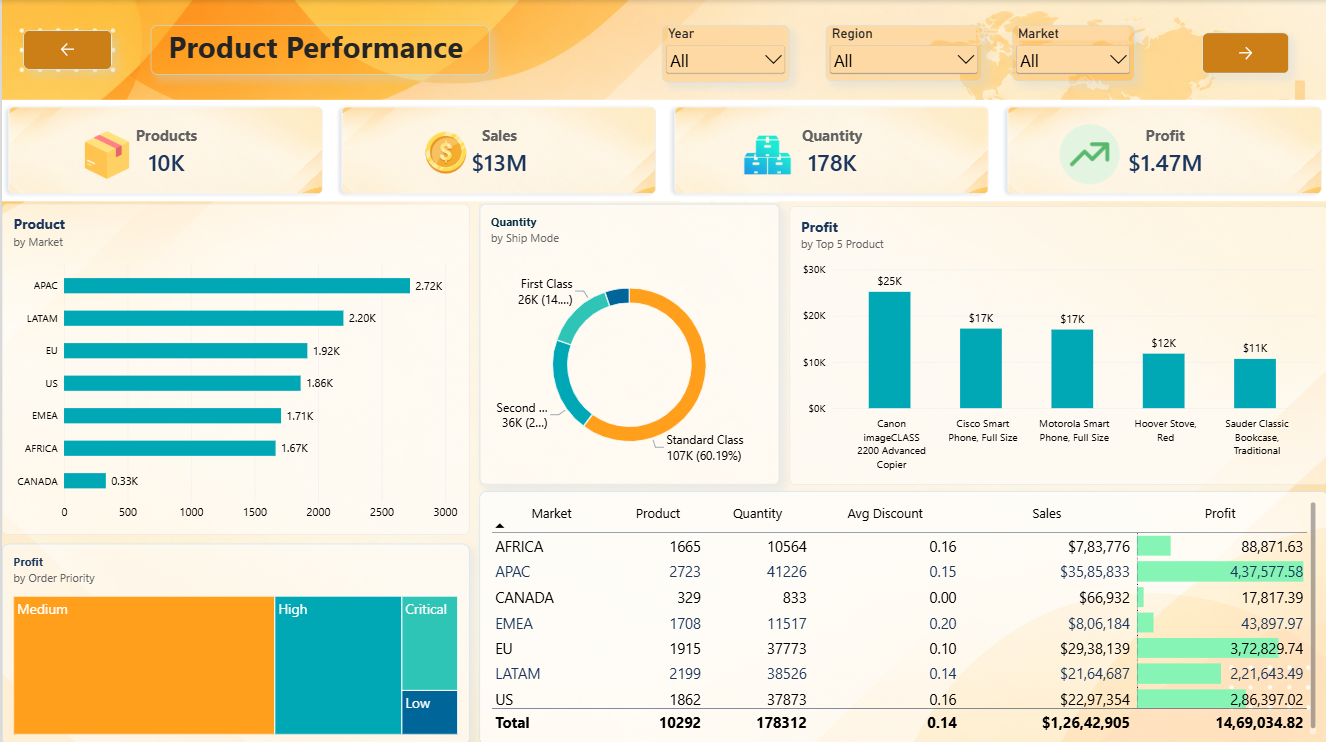

What the dashboard file says about the page in this screenshot:
{"tool":"powerbi","page":{"name":"Product Performance","canvas":[1920,1080],"ordinal":4},"visuals":[{"type":"cardVisual","fields":{"Data":["SuperStoreOrders.Total Sales","SuperStoreOrders.Total Quantity","SuperStoreOrders.Total Profit","SuperStoreOrders.Total Product"]},"box":[0,144.8,1920.1,137.5],"z":0},{"type":"clusteredBarChart","fields":{"Category":["SuperStoreOrders.market"],"Y":["SuperStoreOrders.Total Product"]},"box":[0,295,676.8,479.6],"z":1000},{"type":"treemap","fields":{"Group":["SuperStoreOrders.order_priority"],"Values":["SuperStoreOrders.Total Profit"]},"box":[0,787.2,676.8,293.2],"z":2000},{"type":"donutChart","fields":{"Category":["SuperStoreOrders.ship_mode"],"Y":["SuperStoreOrders.Total Quantity"]},"box":[691.3,295,434.3,407.2],"z":3000},{"type":"clusteredColumnChart","fields":{"Category":["SuperStoreOrders.product_name"],"Y":["SuperStoreOrders.Total Profit"]},"box":[1140.1,298.6,780,403.6],"z":4000},{"type":"tableEx","fields":{"Values":["SuperStoreOrders.market","SuperStoreOrders.Total Product","Sum(SuperStoreOrders.quantity)","Avg(SuperStoreOrders.discount)","SuperStoreOrders.Total Sales","Sum(SuperStoreOrders.profit)"]},"box":[691.3,711.2,1228.8,369.2],"z":5000},{"type":"textbox","box":[215.3,36.2,490.4,72.4],"z":6000},{"type":"cardVisual","fields":{"Data":["SuperStoreOrders.Total Product","SuperStoreOrders.Total Sales","SuperStoreOrders.Total Quantity","SuperStoreOrders.Total Profit"]},"box":[0,144.8,1920.1,146.6],"z":7000},{"type":"slicer","fields":{"Values":["SuperStoreOrders.year"]},"box":[955.5,36.2,184.6,83.2],"z":8000},{"type":"slicer","fields":{"Values":["SuperStoreOrders.region"]},"box":[1192.6,36.2,226.2,81.4],"z":9000},{"type":"slicer","fields":{"Values":["SuperStoreOrders.market"]},"box":[1462.2,36.2,177.3,81.4],"z":10000},{"type":"image","box":[1531,177.3,86.9,92.3],"z":11000},{"type":"image","box":[611.7,186.4,61.5,68.8],"z":12000},{"type":"image","box":[1065.9,190,85.1,68.8],"z":13000},{"type":"image","box":[114,190,76,68.8],"z":14000},{"type":"actionButton","box":[1737.3,47.1,126.7,59.7],"z":15000},{"type":"actionButton","box":[30.8,43.4,128.5,57.9],"z":16000}]}

Visuals, with their boxes in screenshot pixels (x1, y1, x2, y2), scaled from the page's 1920x1080 canvas onto the 1326x742 screenshot:
cardVisual - SuperStoreOrders.Total Sales x SuperStoreOrders.Total Quantity: crop(0, 99, 1325, 194)
clusteredBarChart - SuperStoreOrders.market x SuperStoreOrders.Total Product: crop(0, 203, 467, 532)
treemap - SuperStoreOrders.order_priority x SuperStoreOrders.Total Profit: crop(0, 541, 467, 741)
donutChart - SuperStoreOrders.ship_mode x SuperStoreOrders.Total Quantity: crop(477, 203, 777, 482)
clusteredColumnChart - SuperStoreOrders.product_name x SuperStoreOrders.Total Profit: crop(787, 205, 1325, 482)
tableEx - SuperStoreOrders.market x SuperStoreOrders.Total Product: crop(477, 489, 1325, 741)
textbox: crop(149, 25, 487, 75)
cardVisual - SuperStoreOrders.Total Product x SuperStoreOrders.Total Sales: crop(0, 99, 1325, 200)
slicer - SuperStoreOrders.year: crop(660, 25, 787, 82)
slicer - SuperStoreOrders.region: crop(824, 25, 980, 81)
slicer - SuperStoreOrders.market: crop(1010, 25, 1132, 81)
image: crop(1057, 122, 1117, 185)
image: crop(422, 128, 465, 175)
image: crop(736, 131, 795, 178)
image: crop(79, 131, 131, 178)
actionButton: crop(1200, 32, 1287, 73)
actionButton: crop(21, 30, 110, 70)
